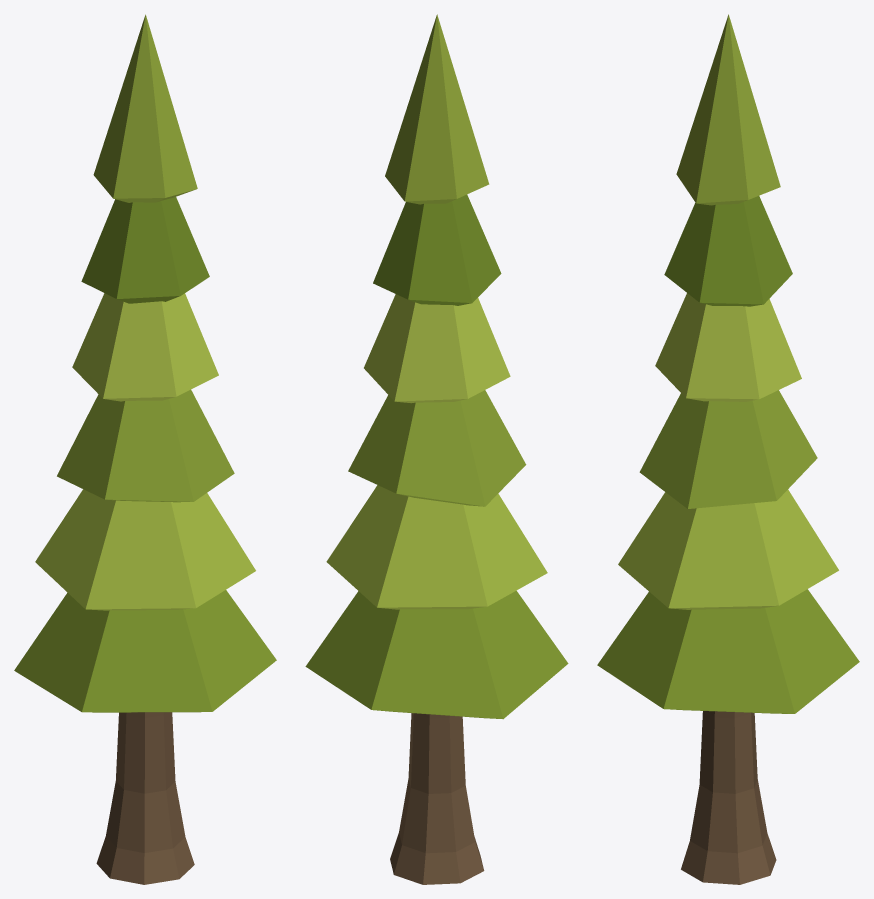
The model's file is LPW_Tree_B1_9m_01.fbx.
The picture shows the model from 3 angles, left to right: view 1: azimuth 30°, elevation 25°; view 2: azimuth 150°, elevation 25°; view 3: azimuth 270°, elevation 25°; orthographic projection.
Visible parts, largest first — view 1: LPW_Tree_B1_9m_01; view 2: LPW_Tree_B1_9m_01; view 3: LPW_Tree_B1_9m_01.
Boxes of the visible parts, x1,y1,x2,y2 form: LPW_Tree_B1_9m_01: (14,14,276,884); LPW_Tree_B1_9m_01: (305,14,568,884); LPW_Tree_B1_9m_01: (597,14,859,884).
Size of the model in its own units: 2.23 by 9.16 by 2.56.
